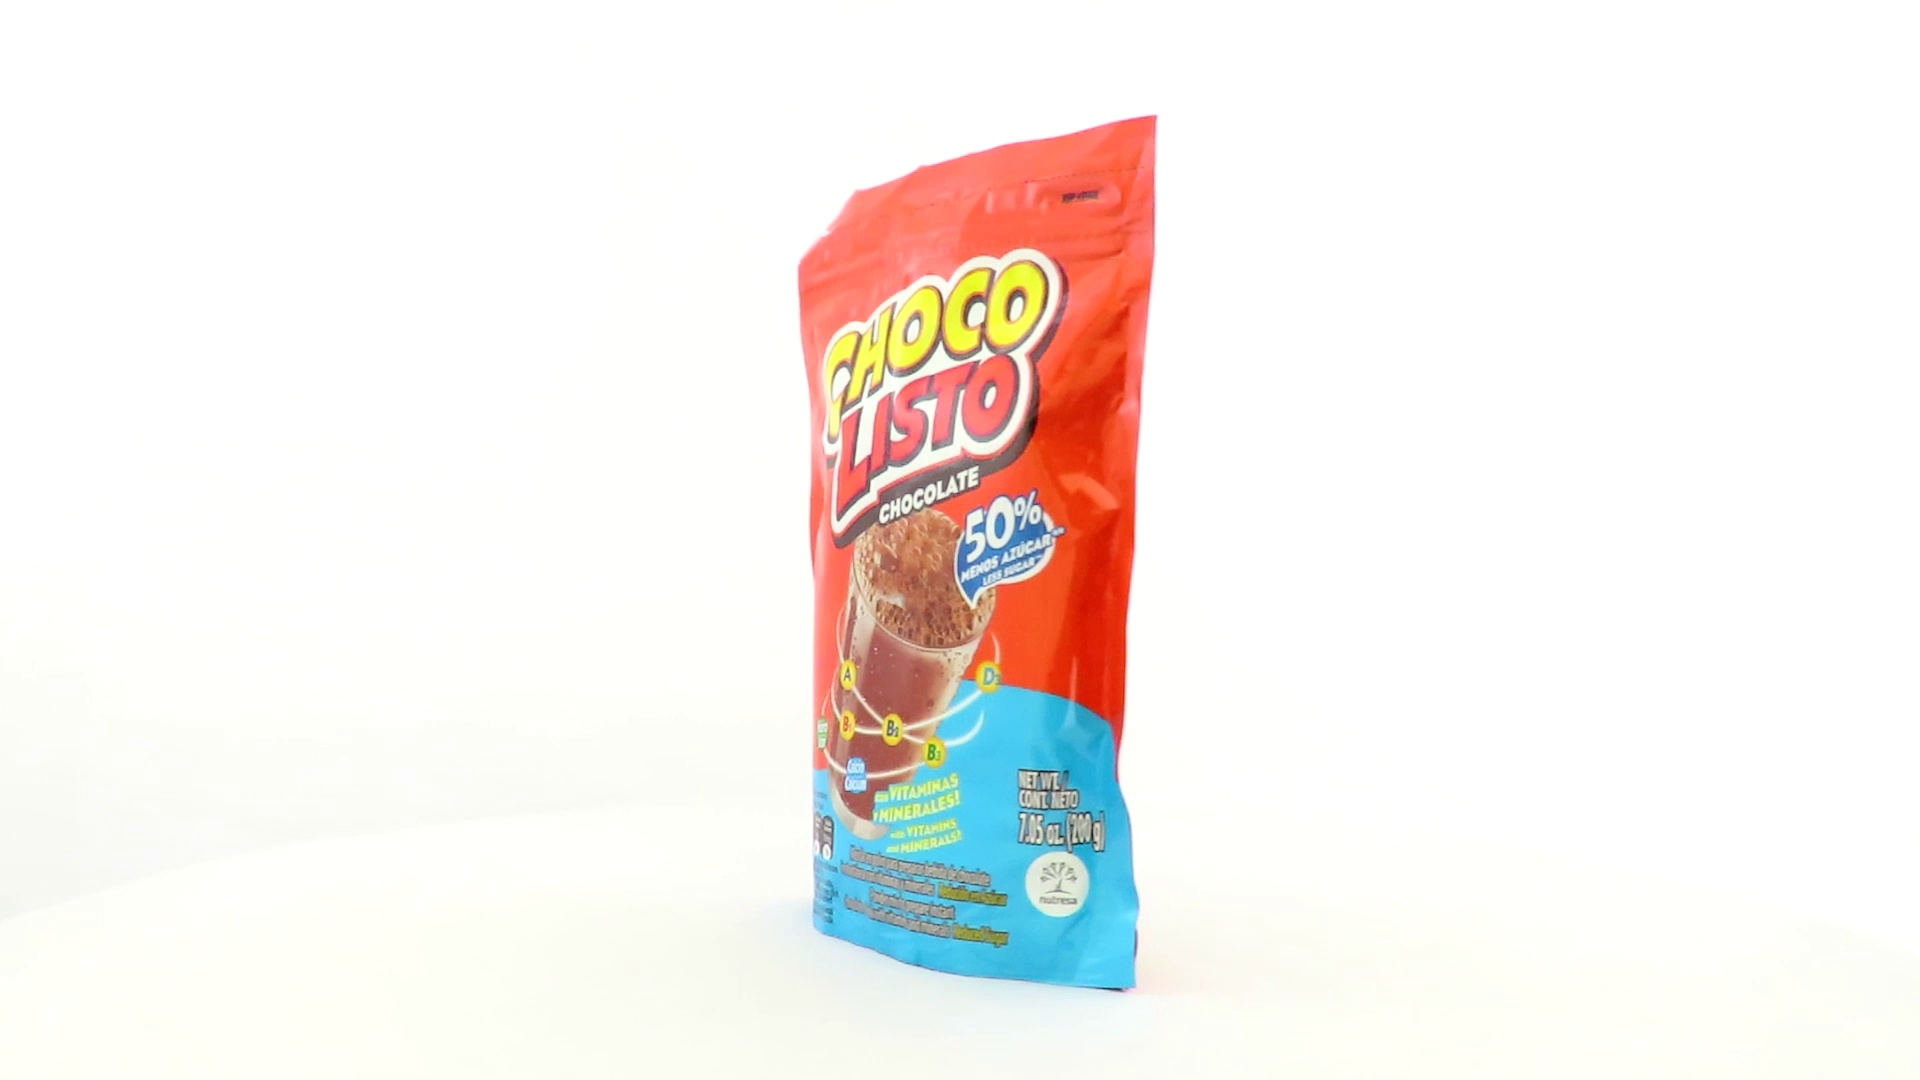COL0170104DYP20000: (793, 109, 1163, 1000)
